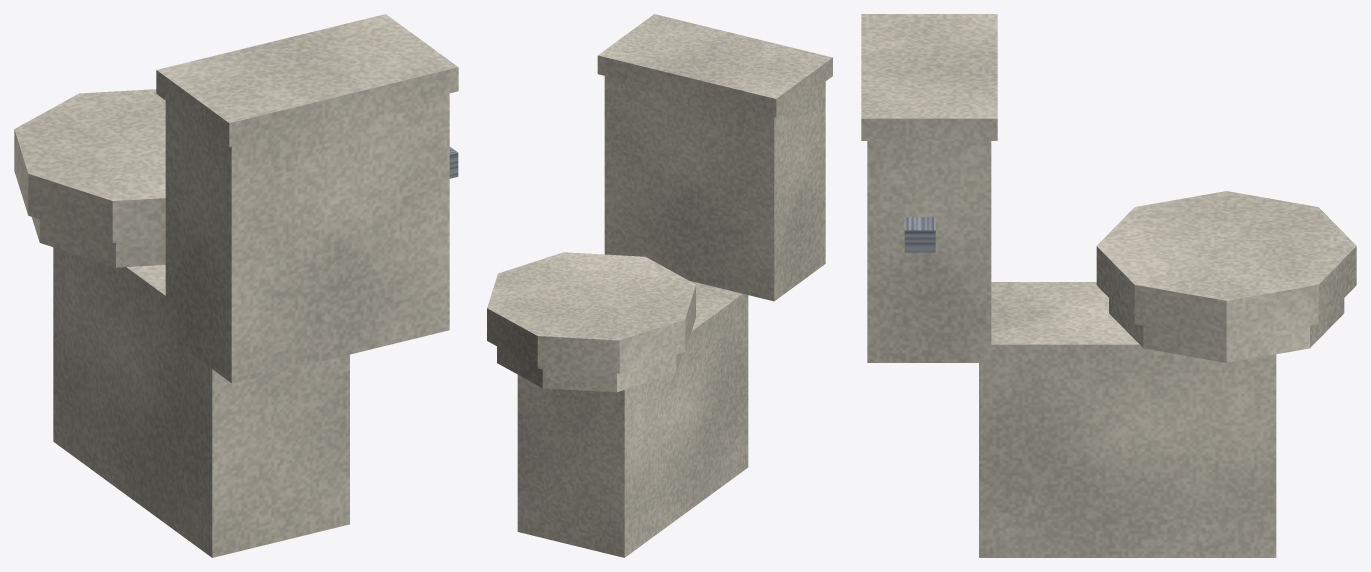
File: toilet.fbx
3 renders of one model, left to right at view 1: azimuth 30°, elevation 25°; view 2: azimuth 150°, elevation 25°; view 3: azimuth 270°, elevation 25°, orthographic. The views are drawn at different scales.
Visible parts, largest first — view 1: toilet; view 2: toilet; view 3: toilet.
Boxes of the visible parts, x1,y1,x2,y2 form: toilet: (14,14,458,557); toilet: (487,14,832,557); toilet: (861,14,1356,557).
Size of the model in its own units: 45 by 82 by 80.
